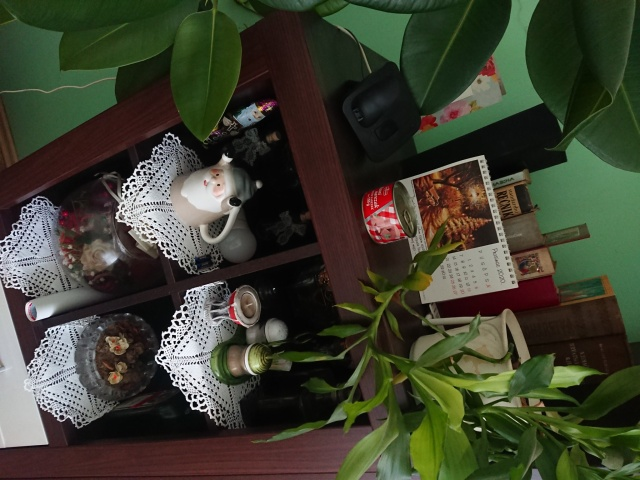Podravka Luncheon Meat 150g: (358, 180, 420, 248)
